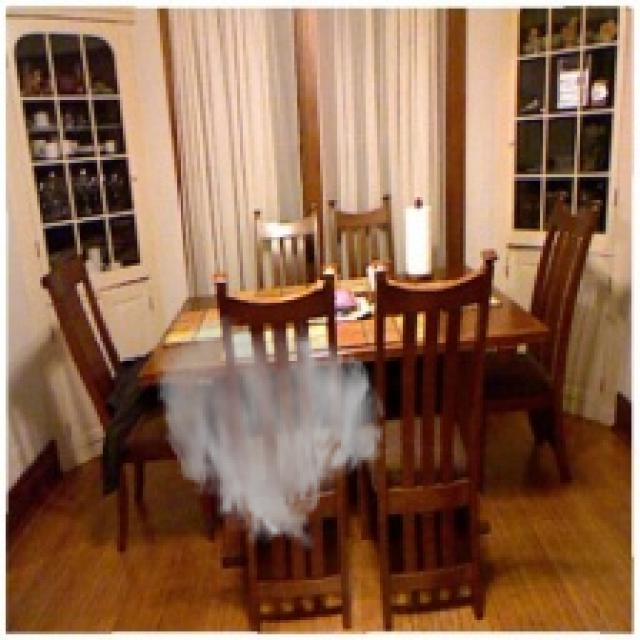smoke: (154, 312, 389, 554)
